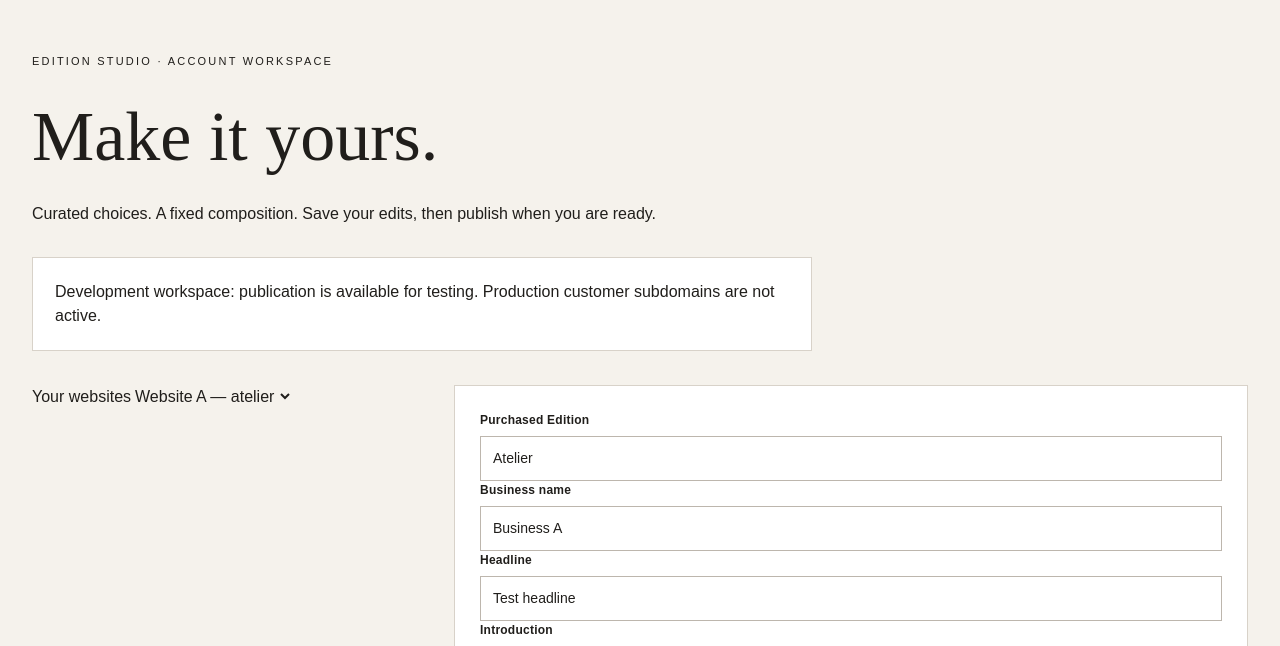
Test: Editor unsaved-change protection › protects customer edits: confirm-switch
Step 1. Replace the text in the field labelled "Business name" with "Unsaved Business A" → (851, 528), box [480,506,1222,551]
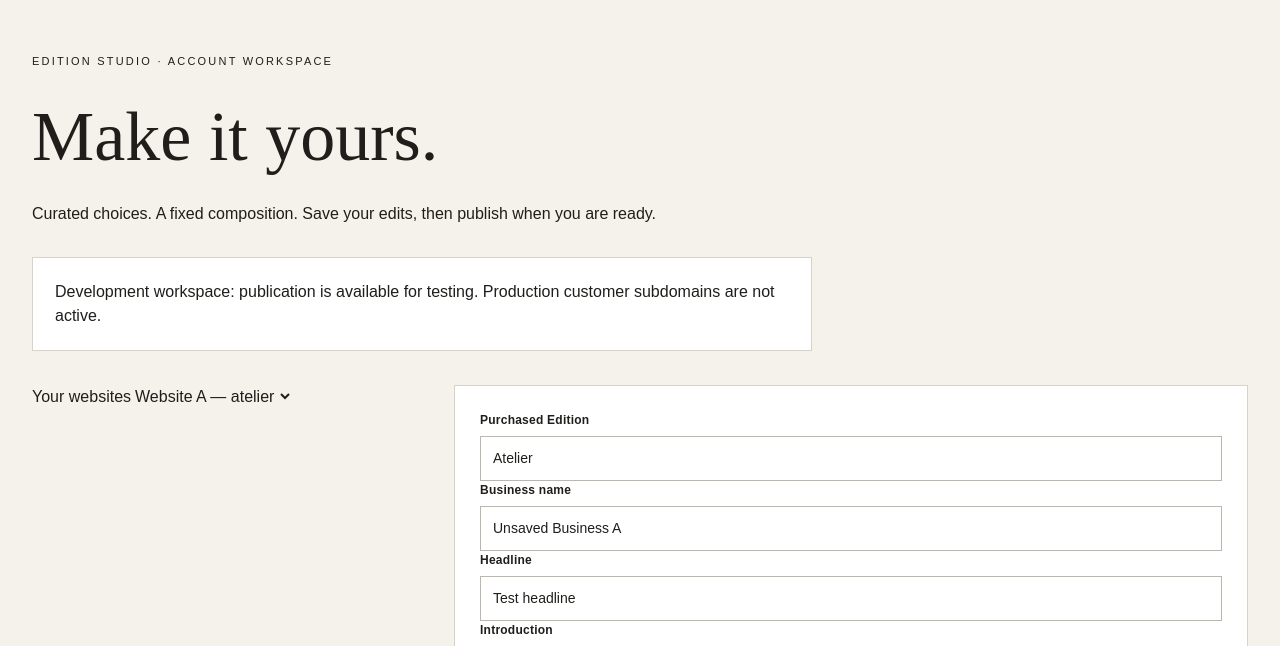
Step 2. Select "Website B — atelier" in the dropdown labelled "Your websites" → (212, 396), box [131,387,293,406]
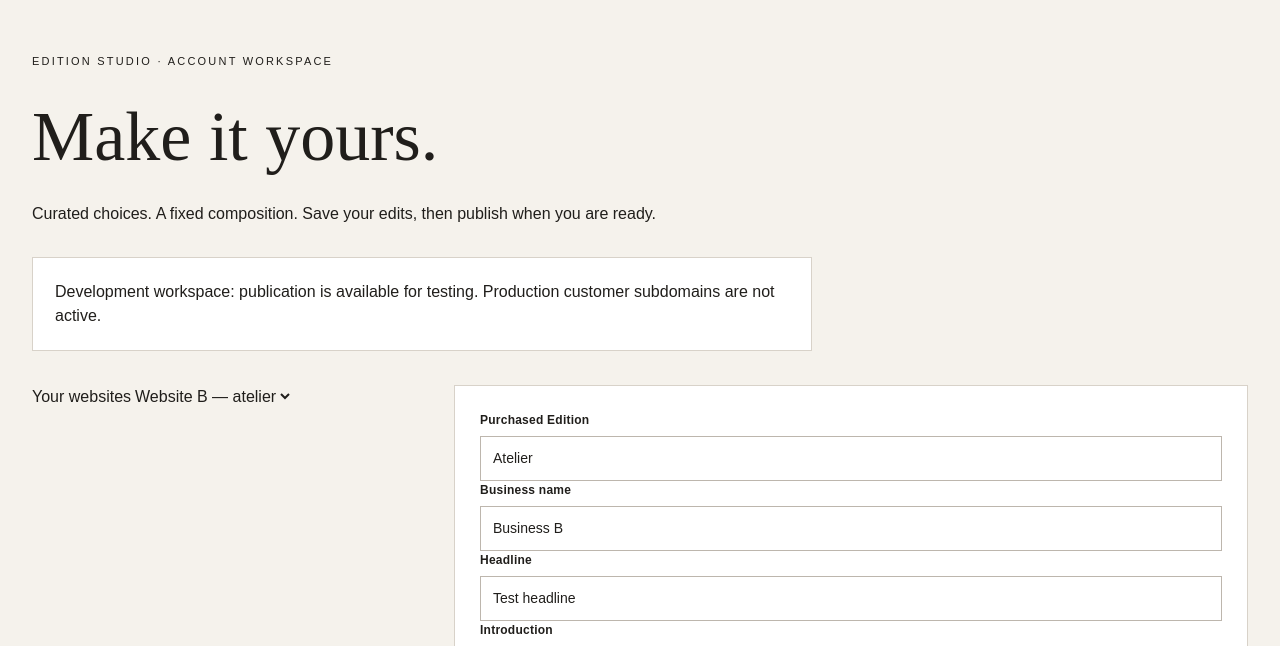
Expected: the field labelled "Business name" holds "Business B", [480,506,1222,551]
